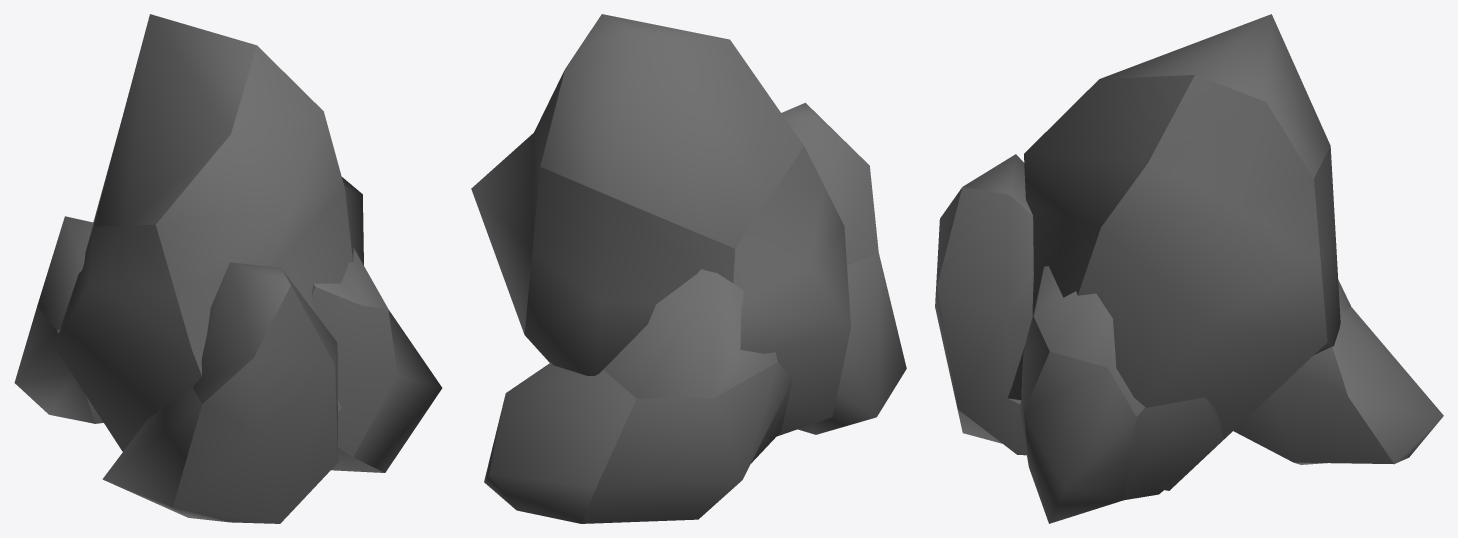
The model's file is Rock002.FBX.
The picture shows the model from 3 angles, left to right: view 1: azimuth 30°, elevation 25°; view 2: azimuth 150°, elevation 25°; view 3: azimuth 270°, elevation 25°; orthographic projection. The views are drawn at different scales.
Visible parts, largest first — view 1: Rock002; view 2: Rock002; view 3: Rock002.
Part boxes in pixels (x1,y1,x2,y2): Rock002: (14, 14, 442, 523); Rock002: (471, 14, 906, 523); Rock002: (935, 14, 1443, 523).
Size of the model in its own units: 314 by 372 by 384.
